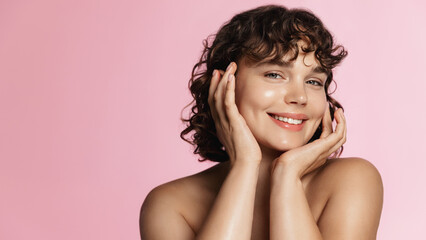teen: (207, 7, 349, 152)
